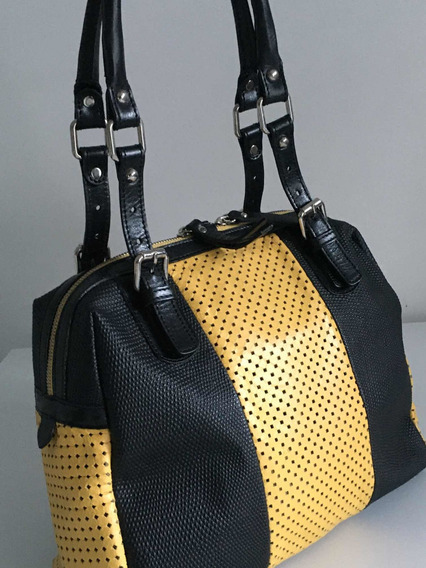cartera: (22, 202, 426, 567)
